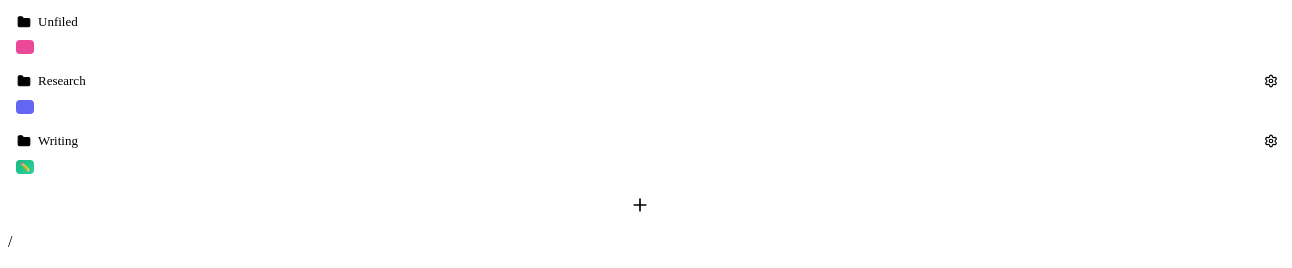
Test case: AgentsSidebar › plus button opens a menu with "New agent" + "New folder"; New agent navigates
Click the button named "create new": click(640, 205) [16,189,1264,221]
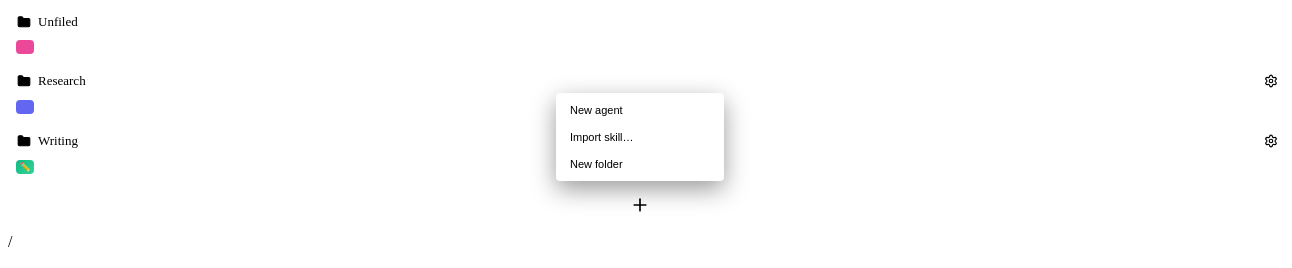
Result: the menu item "New agent" is shown
Result: the menu item "New folder" is shown at [560,151,720,177]
Click the menu item "New agent": click(640, 110) [560,97,720,123]
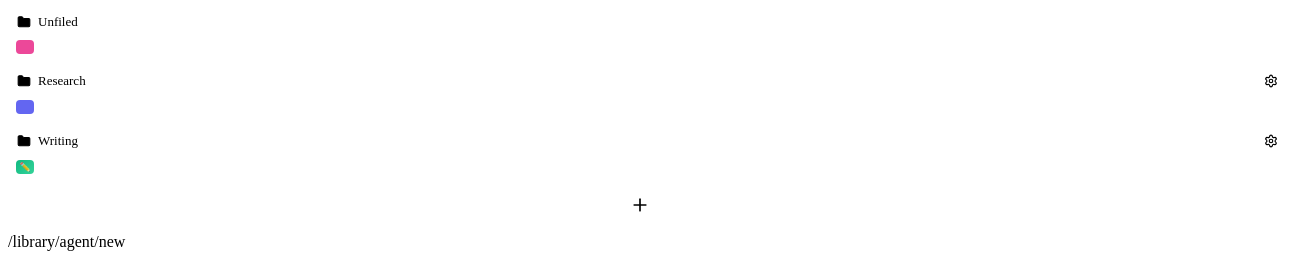
Result: the text with test id "location" reads "/library/agent/new" at [8,233,125,250]
